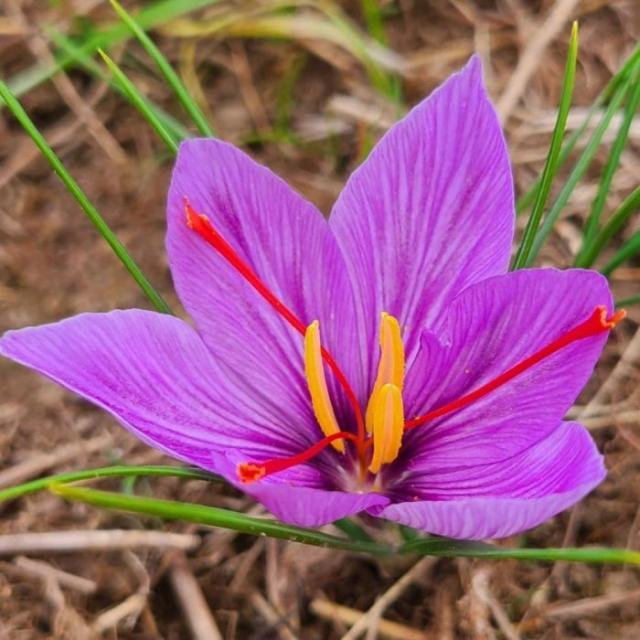Flower: (165, 160, 606, 550)
stigma: (420, 308, 603, 480), (176, 174, 292, 356), (233, 416, 355, 483)
